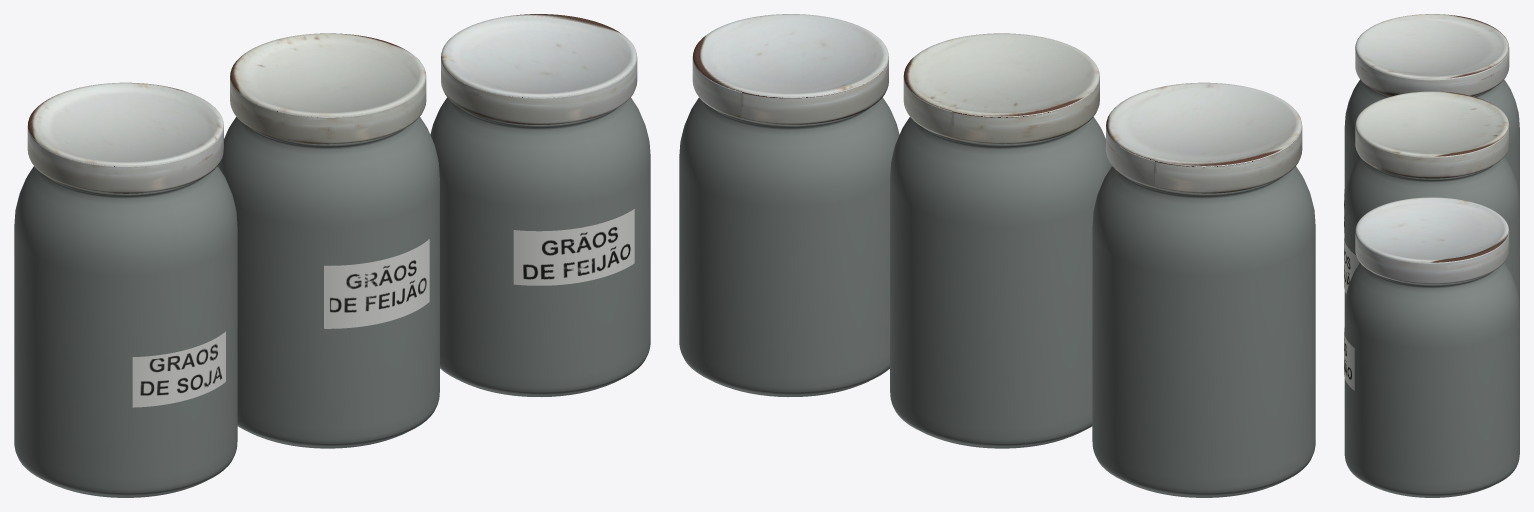
File: graos_12_08_web.glb
3 renders of one model, left to right at view 1: azimuth 30°, elevation 25°; view 2: azimuth 150°, elevation 25°; view 3: azimuth 270°, elevation 25°, orthographic. The views are drawn at different scales.
Parts seen in each view (by area): view 1: Vidro_Pote_Soja, Vidro_Pote_Feijao, Vidro_Pote_Feijao_Preto, Tampa_Pote_Feijao, Tampa_Pote_Soja, Tampa_Pote_Feijao_Preto, Rotulo_Pote_Feijao, Rotulo_Pote_Feijao_Preto, Rotulo_Pote_Soja; view 2: Vidro_Pote_Soja, Vidro_Pote_Feijao, Vidro_Pote_Feijao_Preto, Tampa_Pote_Feijao, Tampa_Pote_Soja, Tampa_Pote_Feijao_Preto; view 3: Vidro_Pote_Feijao_Preto, Tampa_Pote_Feijao_Preto, Tampa_Pote_Feijao, Tampa_Pote_Soja, Vidro_Pote_Feijao, Vidro_Pote_Soja, Rotulo_Pote_Feijao_Preto, Rotulo_Pote_Feijao.
Boxes of the visible parts, <box> form: Vidro_Pote_Soja: <box>14,166,237,497</box>; Vidro_Pote_Feijao: <box>218,117,439,448</box>; Vidro_Pote_Feijao_Preto: <box>430,97,650,396</box>; Tampa_Pote_Feijao: <box>230,33,426,144</box>; Tampa_Pote_Soja: <box>27,82,223,193</box>; Tampa_Pote_Feijao_Preto: <box>441,14,637,124</box>; Rotulo_Pote_Feijao: <box>324,239,429,328</box>; Rotulo_Pote_Feijao_Preto: <box>513,209,634,285</box>; Rotulo_Pote_Soja: <box>132,331,225,407</box>; Vidro_Pote_Soja: <box>1092,166,1315,497</box>; Vidro_Pote_Feijao: <box>890,117,1111,448</box>; Vidro_Pote_Feijao_Preto: <box>679,97,899,396</box>; Tampa_Pote_Feijao: <box>903,33,1099,144</box>; Tampa_Pote_Soja: <box>1106,82,1302,193</box>; Tampa_Pote_Feijao_Preto: <box>692,14,888,124</box>; Vidro_Pote_Feijao_Preto: <box>1344,263,1519,497</box>; Tampa_Pote_Feijao_Preto: <box>1355,197,1509,284</box>; Tampa_Pote_Feijao: <box>1355,91,1509,178</box>; Tampa_Pote_Soja: <box>1355,14,1509,96</box>; Vidro_Pote_Feijao: <box>1344,157,1519,310</box>; Vidro_Pote_Soja: <box>1344,79,1519,204</box>; Rotulo_Pote_Feijao_Preto: <box>1344,328,1354,390</box>; Rotulo_Pote_Feijao: <box>1344,234,1359,293</box>.
Size of the model in its own units: 0.2571 by 0.1353 by 0.0822.
Materials: 12 (7 with a texture image).
